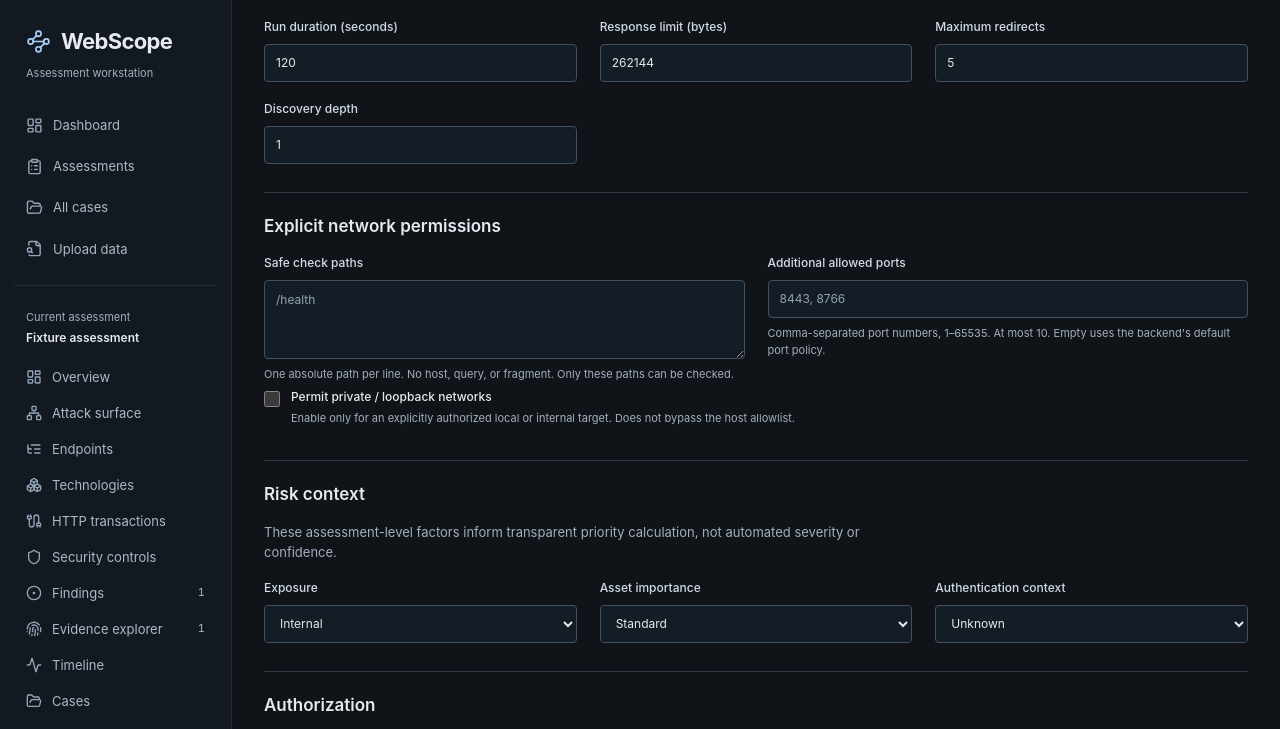
Test: inventory, cases, configuration, and exports › enforced lifecycle and authorization contracts › requires explicit reauthorization for a changed private network boundary
(page scrolled)
Click the checkbox labelled "Permit private / loopback networks" at (272, 399), box left=264, top=391, right=280, bottom=407
(page scrolled)
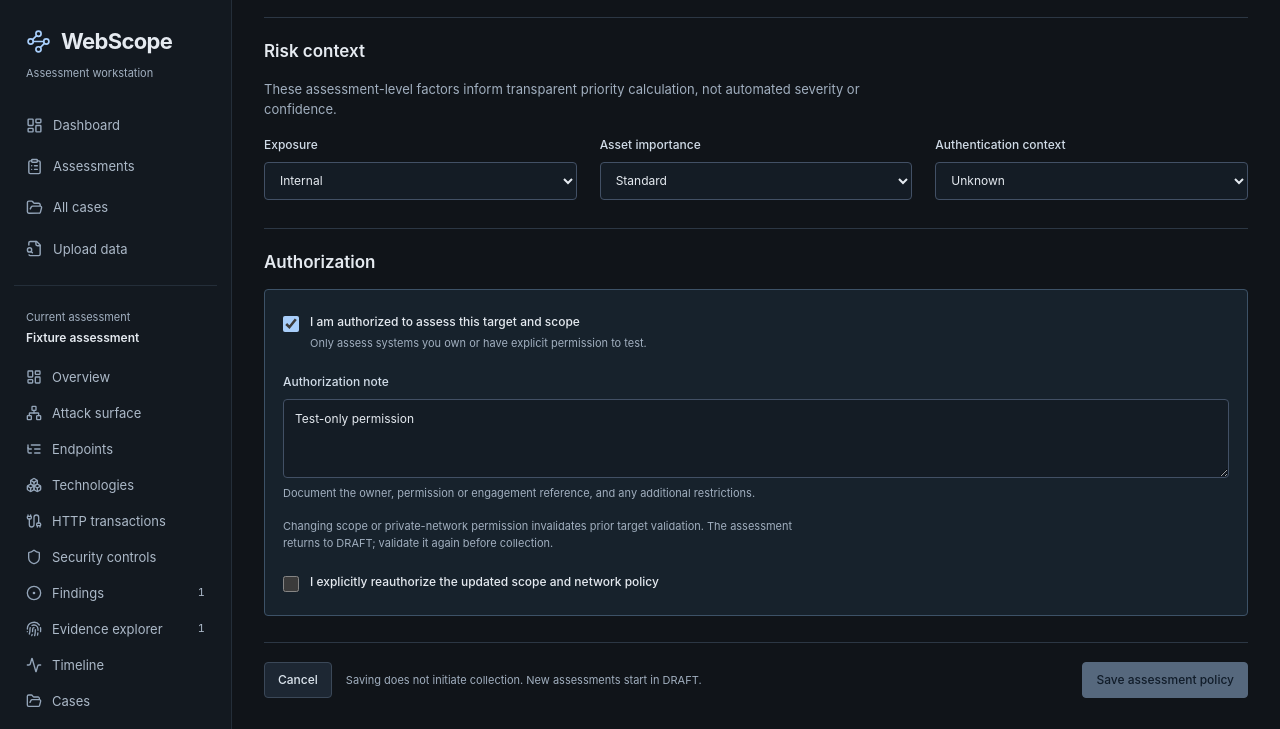
Expected: the button "Save assessment policy" is disabled, left=1082, top=662, right=1248, bottom=698
Click the checkbox labelled "I explicitly reauthorize the updated scope and network policy" at (291, 584), box left=283, top=576, right=299, bottom=592
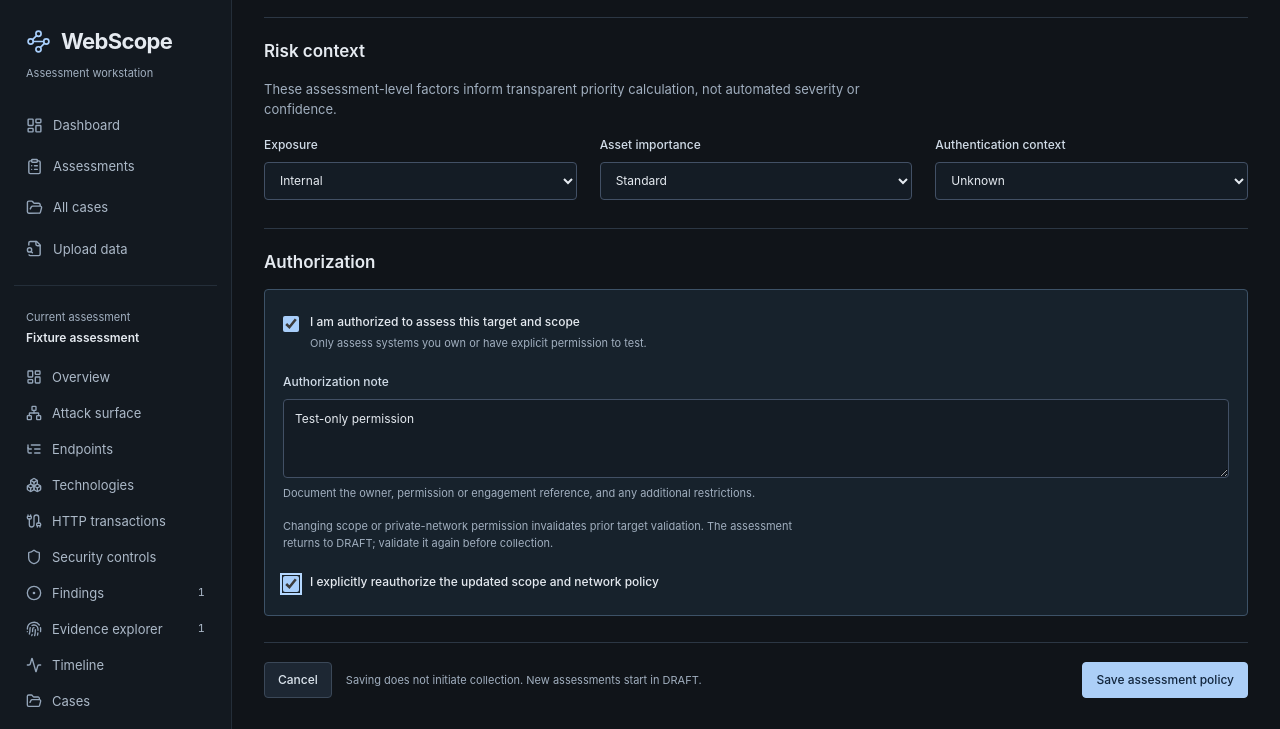
Click the button "Save assessment policy" at (1165, 680), box left=1082, top=662, right=1248, bottom=698
(page scrolled)
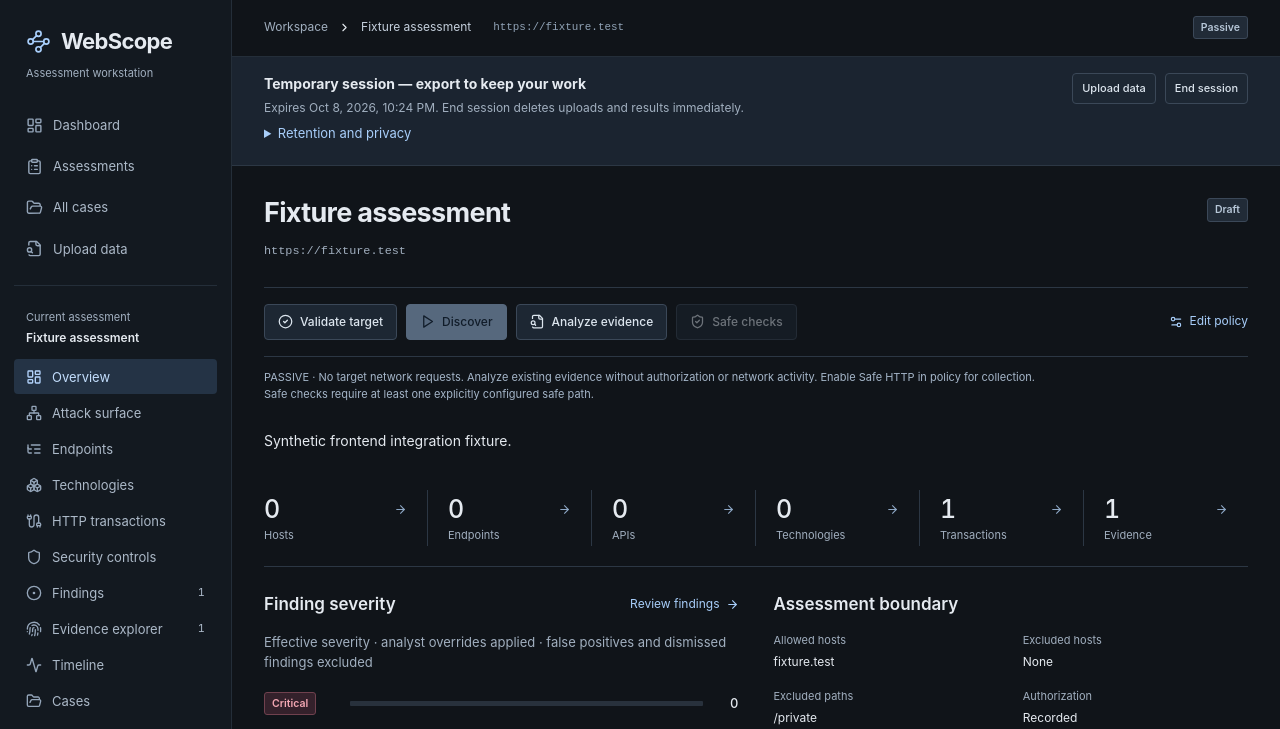
Expected: the button "Discover" is disabled, left=406, top=304, right=507, bottom=340
Expected: the text with class "badge" reads "Draft", left=1215, top=203, right=1240, bottom=216
Expected: the heading "Fixture assessment" is shown, left=264, top=196, right=510, bottom=230
